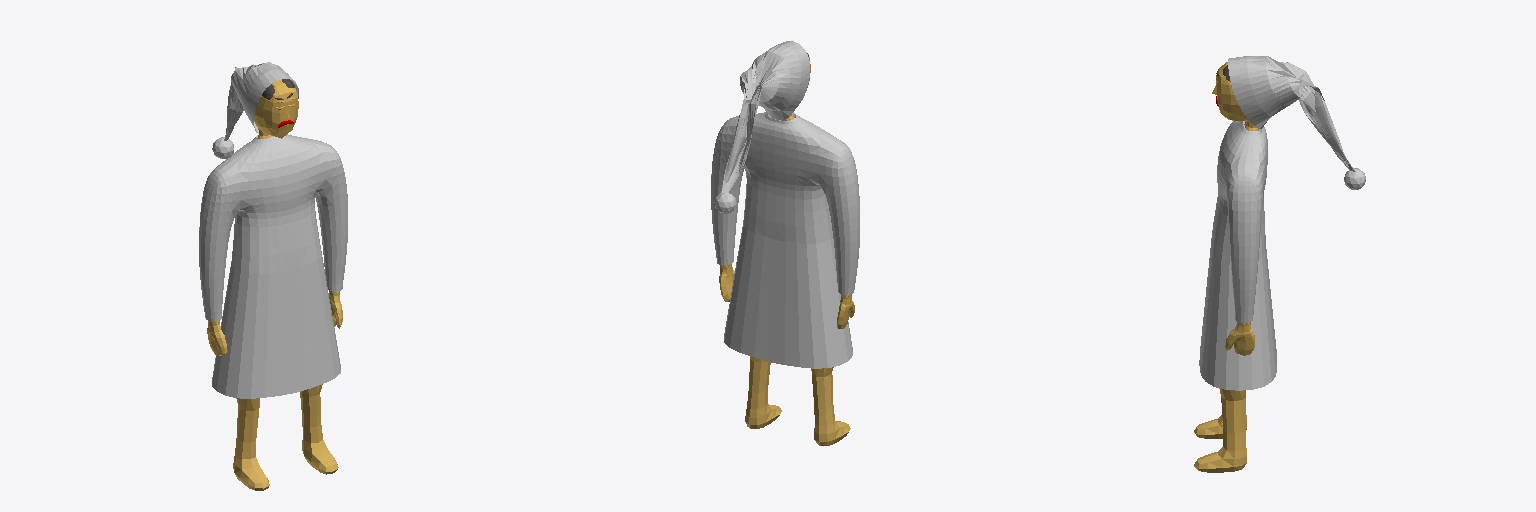
File: human_mesh.obj
3 views of the same model, side by side, from view 1: azimuth 30°, elevation 25°; view 2: azimuth 150°, elevation 25°; view 3: azimuth 270°, elevation 25° (orthographic).
Visible parts, largest first — view 1: Cube.003, Cube.000, Icosphere; view 2: Cube.003, Icosphere, Cube.000; view 3: Cube.003, Icosphere, Cube.000.
Boxes of the visible parts, x1=… form: Cube.003: x1=199, y1=134, x2=347, y2=398; Cube.000: x1=207, y1=80, x2=342, y2=490; Icosphere: x1=212, y1=62, x2=298, y2=158; Cube.003: x1=711, y1=112, x2=859, y2=368; Icosphere: x1=714, y1=41, x2=809, y2=213; Cube.000: x1=719, y1=54, x2=854, y2=445; Cube.003: x1=1199, y1=121, x2=1276, y2=390; Icosphere: x1=1228, y1=56, x2=1365, y2=189; Cube.000: x1=1194, y1=62, x2=1258, y2=472.
Bounding box in the file's own units: 0.3592 × 0.9356 × 0.3697.